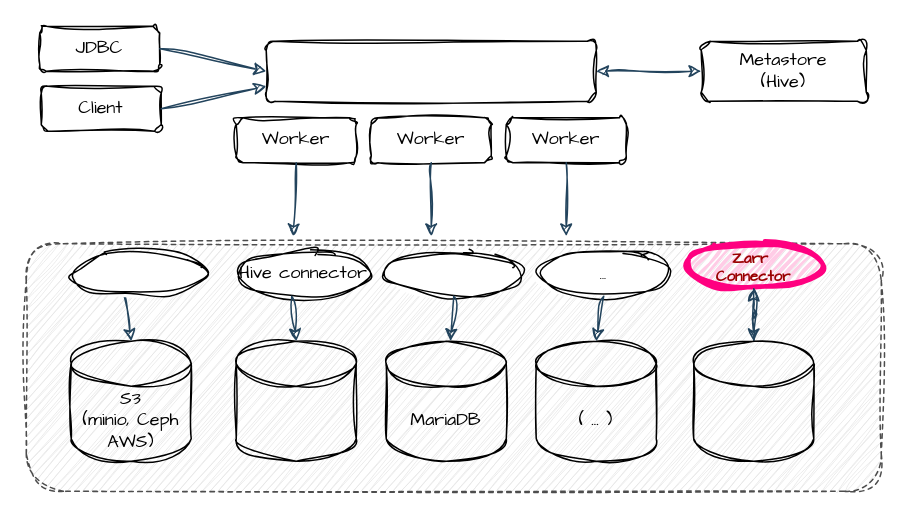
The diagram is 908 pixels wide and 518 high, and some of its shapes have lost their labels. The shapes that lost their labels are listed below. From the top down, each one's centre as x and y in pixels, then its label:
At (430,70): "Trino Coordinator".
At (138,273): "S3 connector".
At (453,273): "MariaDB connector".
At (295,400): "HDFS".
At (753,400): "Zarr NetCDF4".
